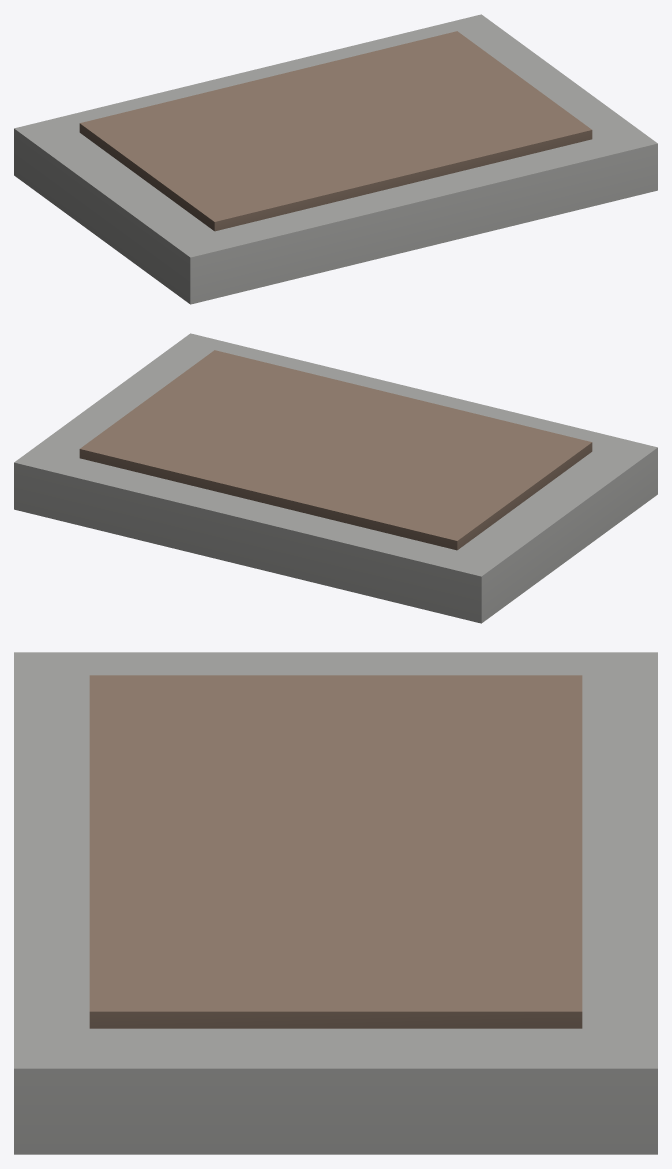
Rendered from drain_grate.lod2.glb.
The picture shows the model from 3 angles, top to bottom: view 1: azimuth 30°, elevation 25°; view 2: azimuth 150°, elevation 25°; view 3: azimuth 270°, elevation 25°; orthographic projection. The views are drawn at different scales.
Visible parts, largest first — view 1: props_drain_grate.lod2; view 2: props_drain_grate.lod2; view 3: props_drain_grate.lod2.
Boxes of the visible parts, box(x1,y1,x2,y2) form: props_drain_grate.lod2: box(14, 14, 657, 304); props_drain_grate.lod2: box(14, 333, 657, 623); props_drain_grate.lod2: box(14, 652, 657, 1154).
Bounding box in the file's own units: 0.52 × 0.06 × 0.34.
